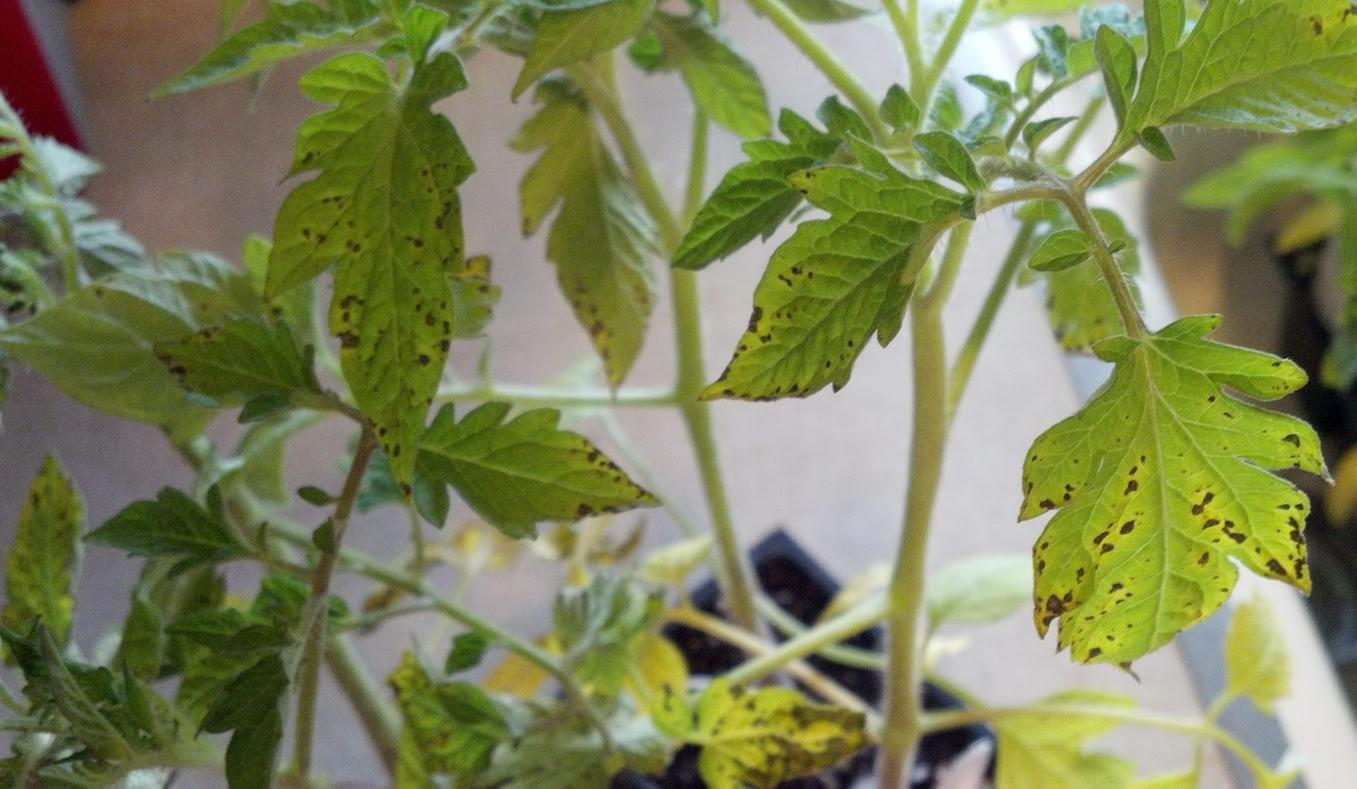Tomato Septoria leaf spot: (1007, 340, 1329, 718), (254, 72, 490, 522), (674, 149, 993, 410), (369, 399, 676, 569), (676, 665, 886, 789)
